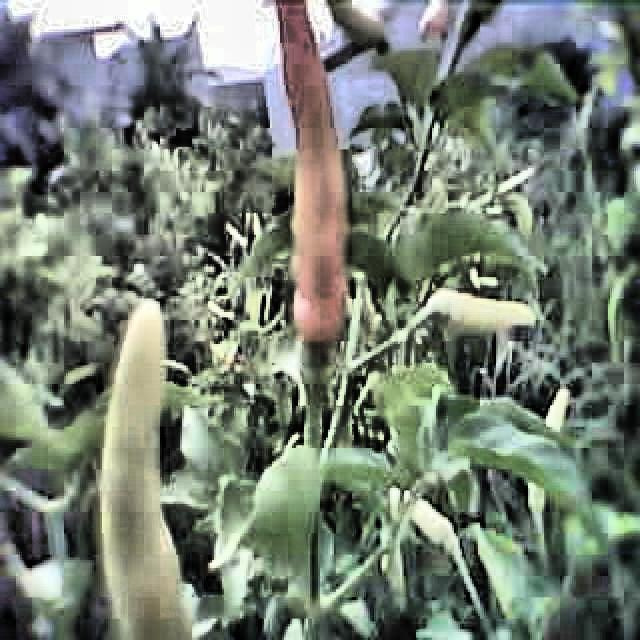Cabai: (88, 293, 212, 640), (276, 0, 357, 344), (425, 269, 562, 352)
